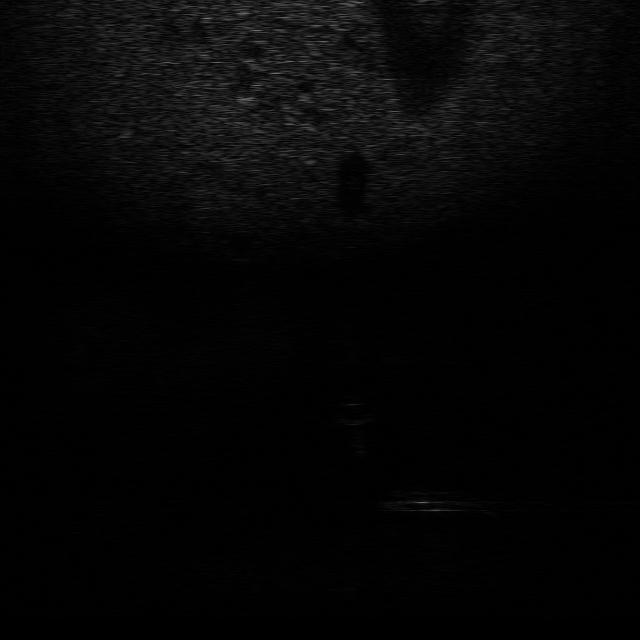ball: (328, 398, 378, 427)
tyre: (379, 488, 486, 515)
